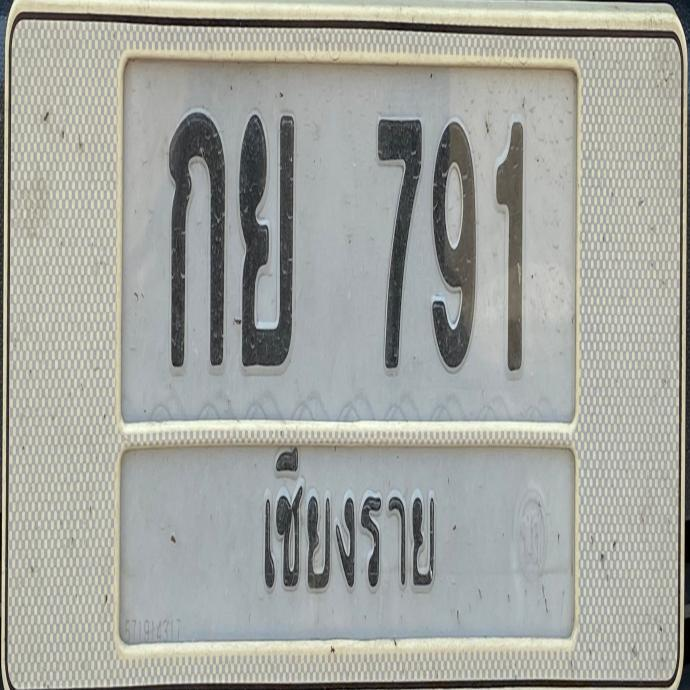1: (493, 118, 523, 373)
7: (372, 113, 421, 369)
9: (430, 116, 475, 370)
A01: (166, 108, 223, 368)
A34: (236, 107, 295, 368)
CRI: (238, 447, 447, 603)
